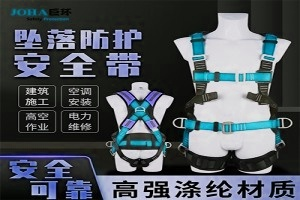safety belt: (182, 34, 285, 172), (111, 90, 169, 169)
